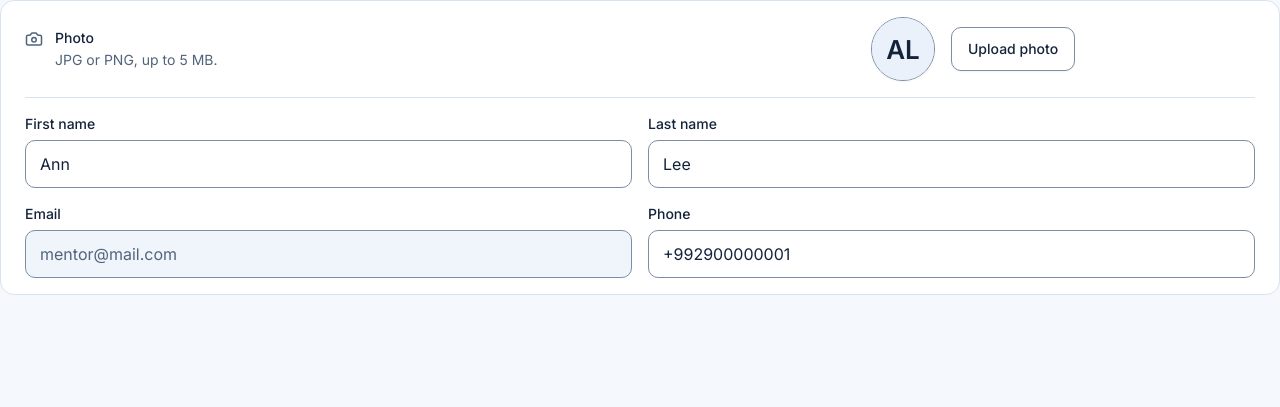
it: profile save errors › shows the translated server-unreachable message on a network failure
The width and height of the screenshot is (1280, 407).
Replace the text in the field labelled "Phone" with "+992900000002": (952, 254) [648,230,1255,278]
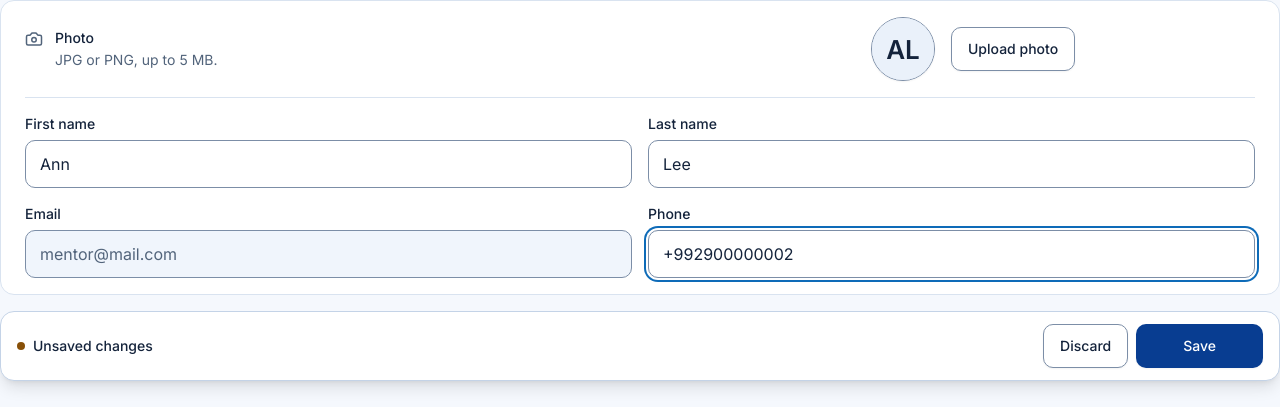
Click the button "Save": (1200, 346) [1136,324,1263,368]
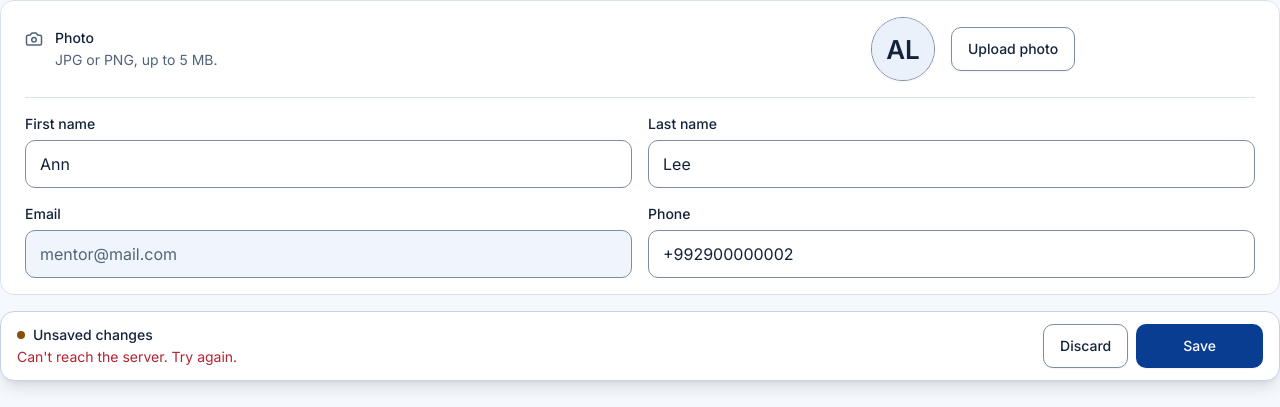
Expected: the message reads "Can't reach the server. Try again.", [17,348,237,365]
